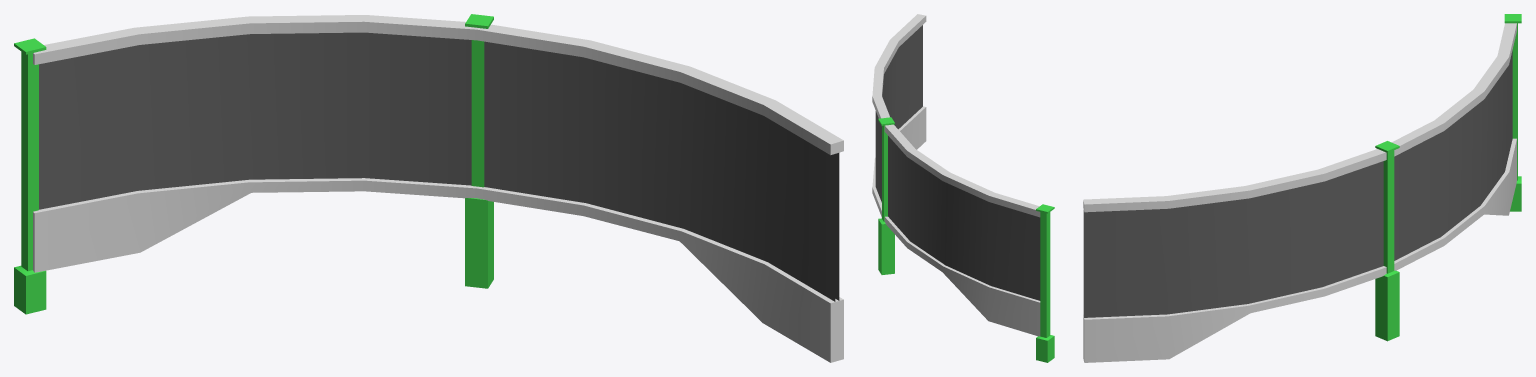
The model's file is FenceElegant00_2.5x2.5Corner.fbx.
3 views of the same model, side by side, from view 1: azimuth 30°, elevation 25°; view 2: azimuth 150°, elevation 25°; view 3: azimuth 270°, elevation 25° (orthographic). The views are drawn at different scales.
Visible parts, largest first — view 1: FenceElegant00_2.5x2.5Corner; view 2: FenceElegant00_2.5x2.5Corner; view 3: FenceElegant00_2.5x2.5Corner.
Boxes of the visible parts, bbox=[...] form: FenceElegant00_2.5x2.5Corner: bbox=[14, 14, 843, 362]; FenceElegant00_2.5x2.5Corner: bbox=[872, 14, 1054, 362]; FenceElegant00_2.5x2.5Corner: bbox=[1083, 14, 1521, 362].
Size of the model in its own units: 257 by 122 by 255.
